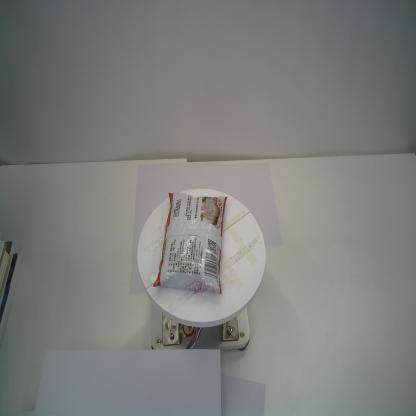Seasoner: (153, 192, 227, 296)
